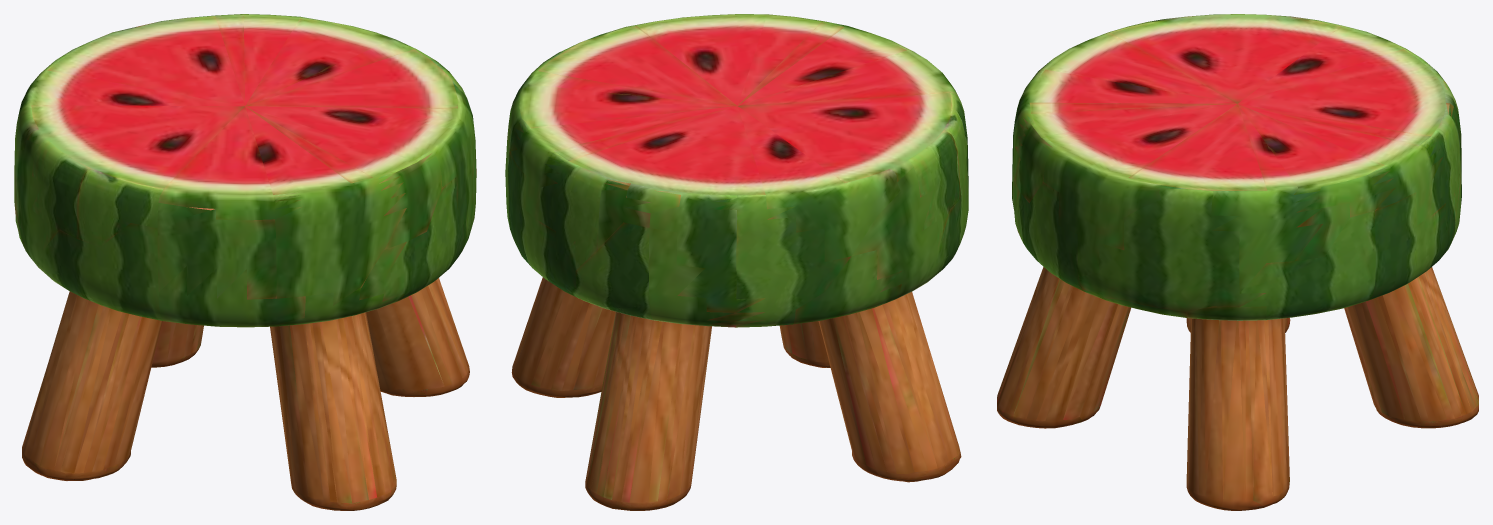
Rendered from fest_melon.glb.
3 renders of one model, left to right at view 1: azimuth 30°, elevation 25°; view 2: azimuth 150°, elevation 25°; view 3: azimuth 270°, elevation 25°, orthographic. The views are drawn at different scales.
Size of the model in its own units: 1 by 0.7044 by 1.
1 material, 1 textured.
